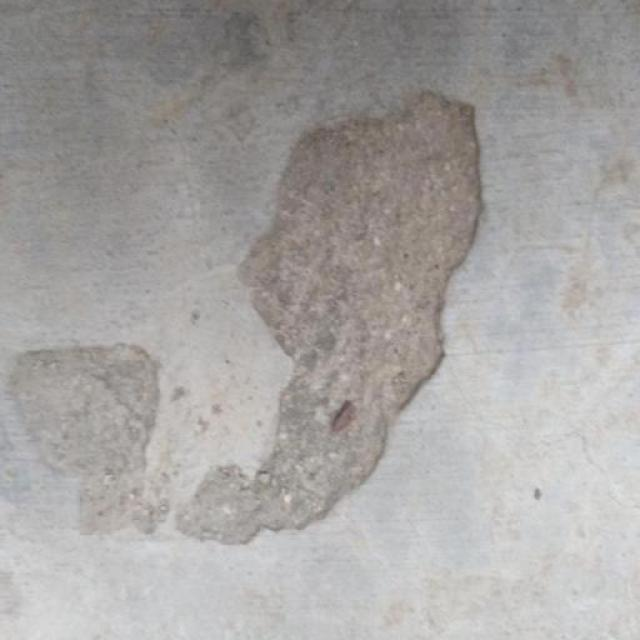D10: (176, 89, 484, 546), (10, 341, 188, 538)
